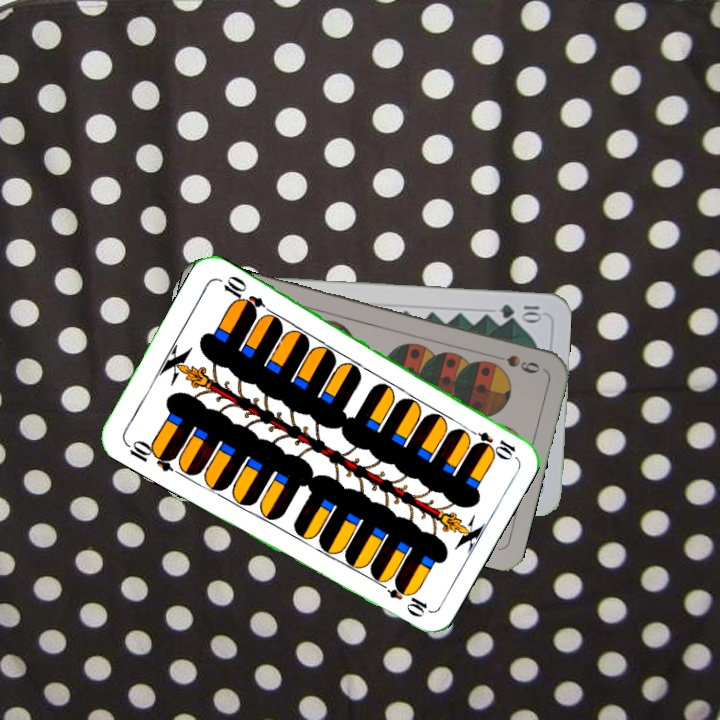E10: (121, 436, 179, 475), (462, 423, 519, 461)
G10: (496, 300, 545, 322)
S9: (486, 350, 543, 376)
